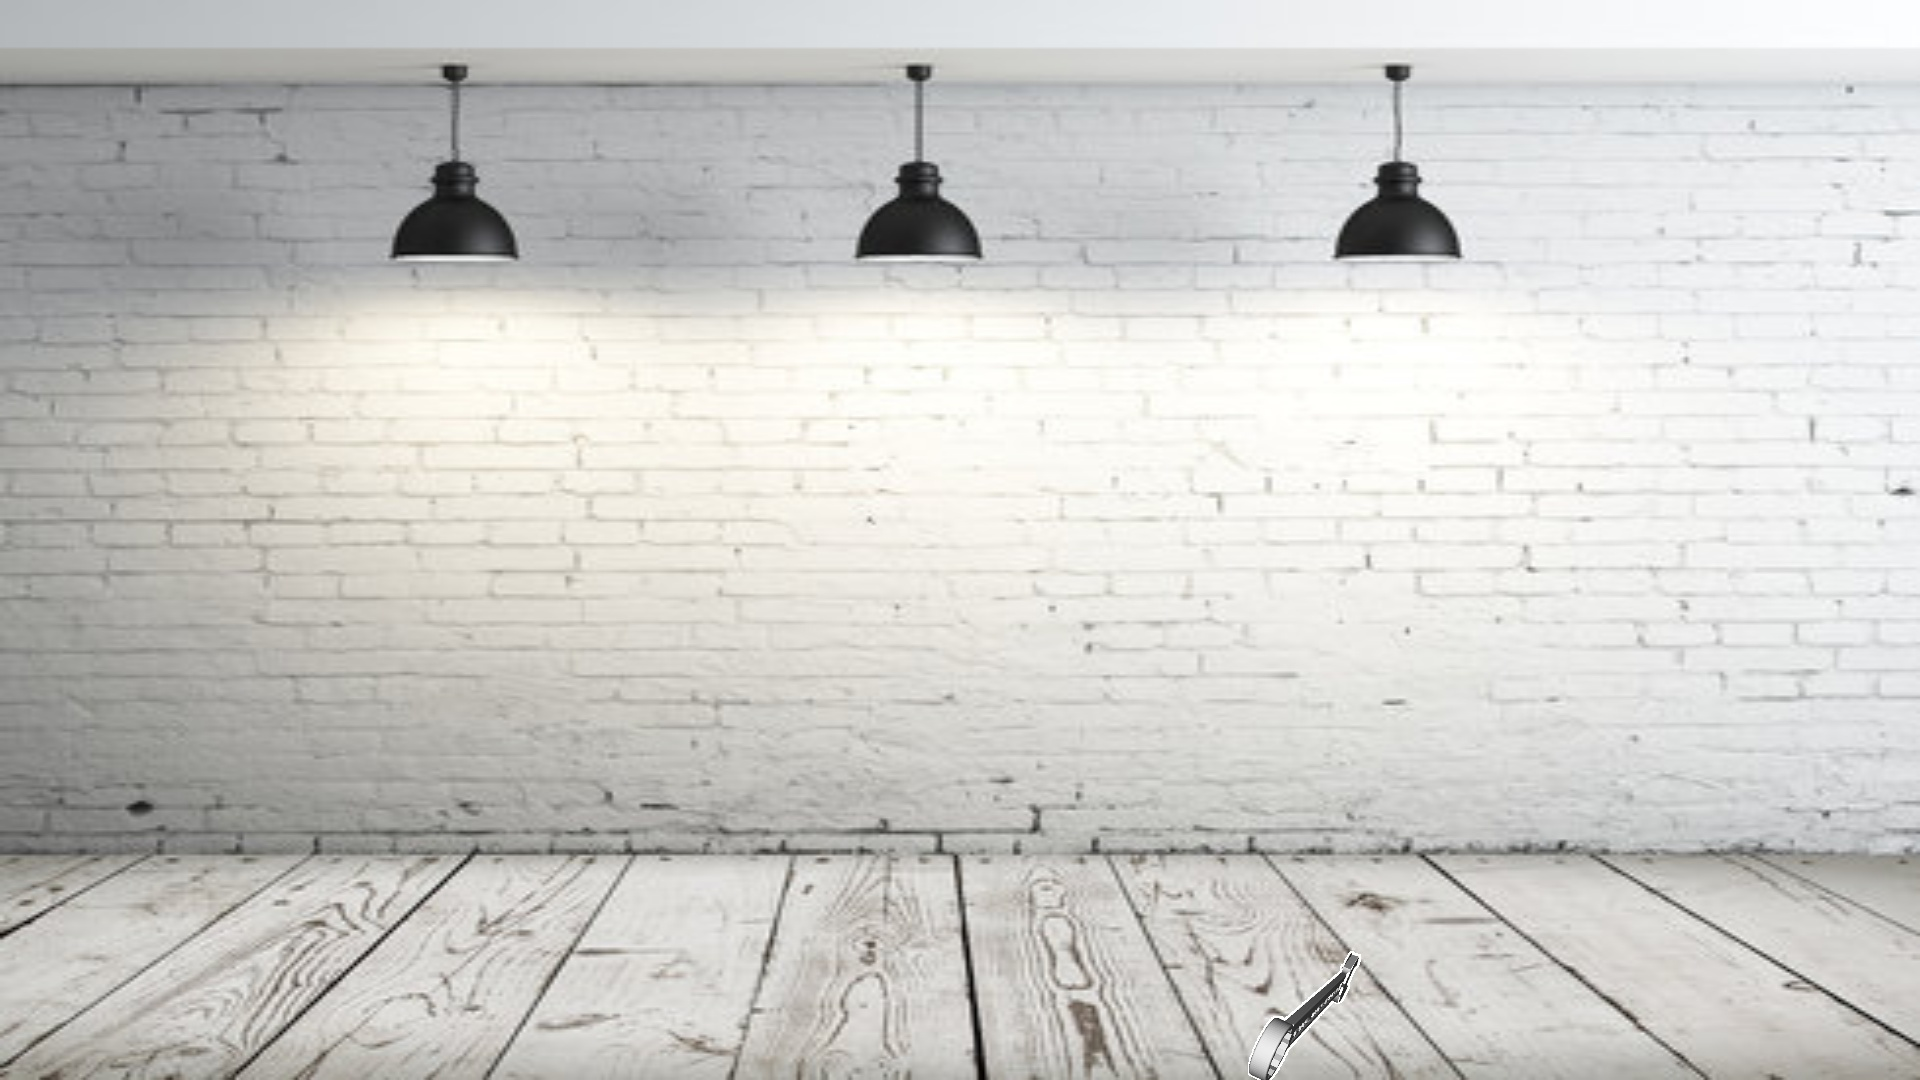Mixed Key: (1247, 951, 1360, 1079)
